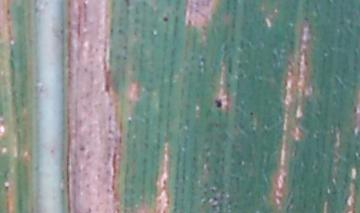tarspot: (213, 96, 225, 111), (161, 12, 171, 25), (123, 1, 132, 9)
